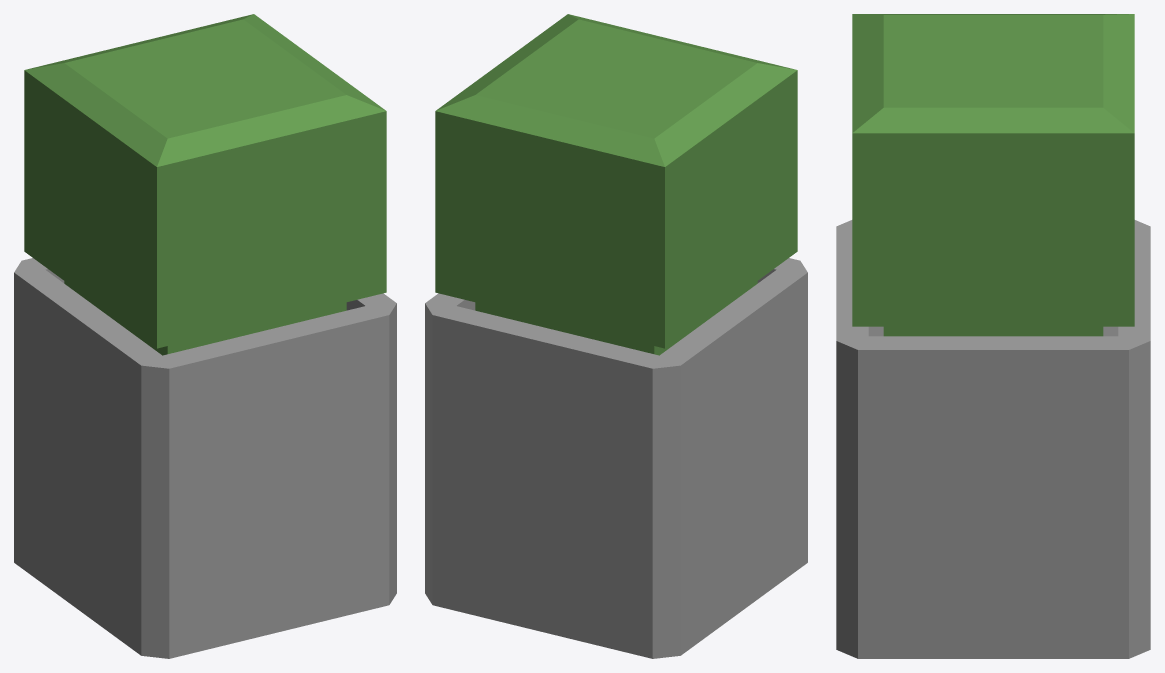
Rendered from FlowerBed_02.fbx.
The picture shows the model from 3 angles, left to right: view 1: azimuth 30°, elevation 25°; view 2: azimuth 150°, elevation 25°; view 3: azimuth 270°, elevation 25°; orthographic projection. The views are drawn at different scales.
Visible parts, largest first — view 1: FlowerBed_02; view 2: FlowerBed_02; view 3: FlowerBed_02.
Boxes of the visible parts, x1=… form: FlowerBed_02: x1=14, y1=14, x2=396, y2=658; FlowerBed_02: x1=425, y1=14, x2=807, y2=658; FlowerBed_02: x1=836, y1=14, x2=1150, y2=658.
Size of the model in its own units: 58.82 by 110 by 58.82.
